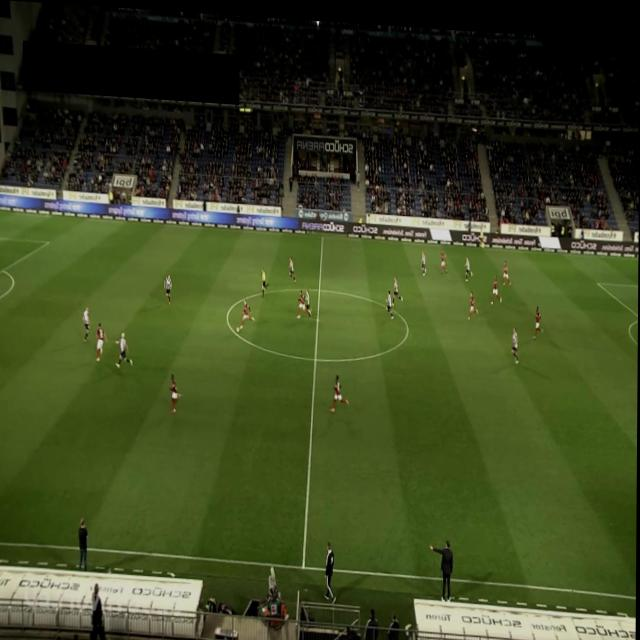player: (329, 368, 350, 409), (115, 330, 134, 367), (169, 371, 183, 412), (296, 285, 312, 317), (96, 320, 108, 361), (239, 296, 255, 326), (490, 268, 503, 298), (533, 298, 543, 333), (468, 284, 479, 314), (512, 319, 520, 357), (394, 270, 404, 300), (83, 304, 91, 341), (303, 284, 312, 315), (386, 283, 394, 316), (164, 272, 172, 303), (288, 252, 297, 278), (503, 253, 512, 279), (465, 248, 472, 275), (441, 244, 448, 269), (422, 245, 426, 270)
referee: (261, 264, 270, 294), (479, 218, 485, 243)
